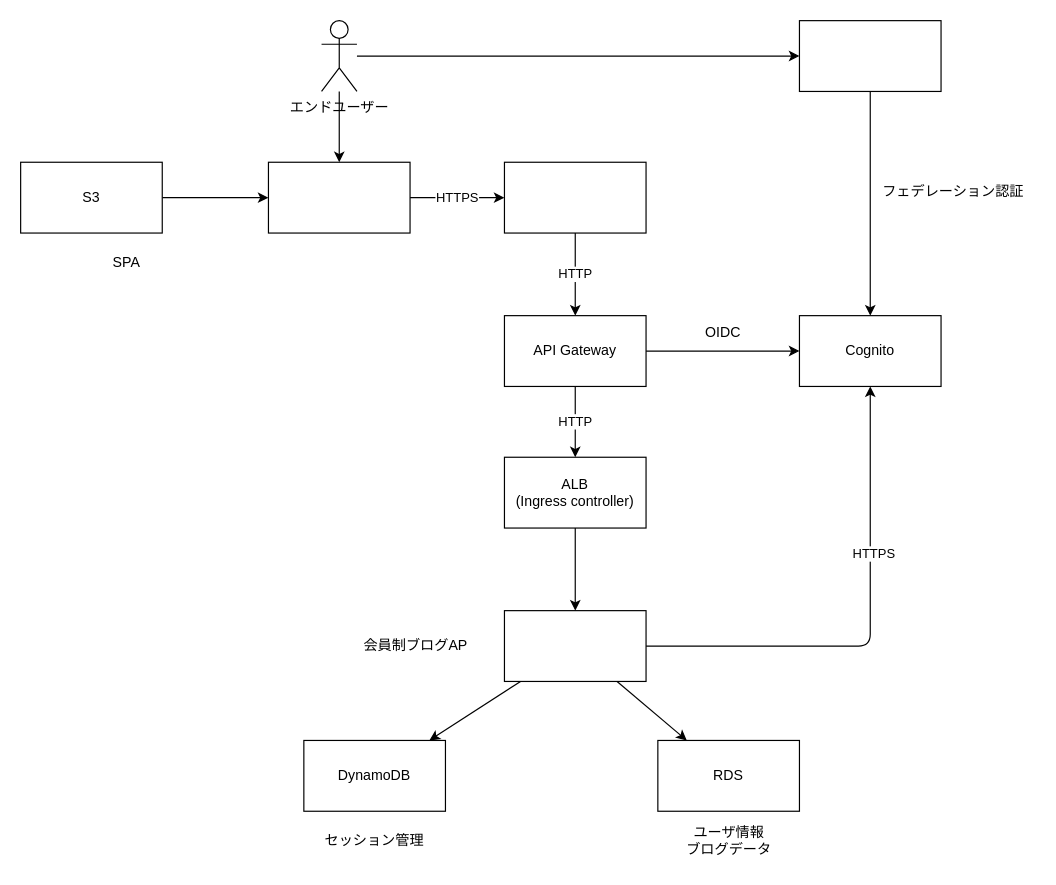
Image size: 1056x885. Some labels were removed from this diagram. Here are the shapes that lost their labels. From the top down, the centre of each, then its label:
At point (869, 55): "Google アカウント".
At point (338, 197): "CloudFront".
At point (574, 197): "ALB".
At point (574, 645): "EKS".
